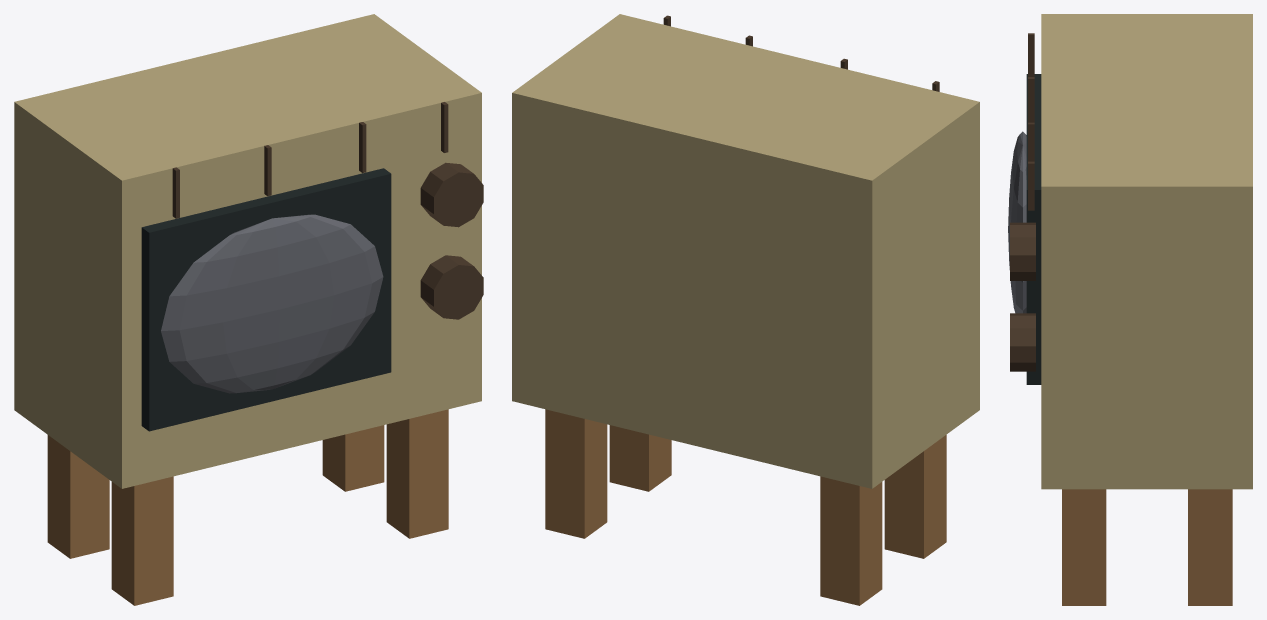
Rendered from good.glb.
3 views of the same model, side by side, from view 1: azimuth 30°, elevation 25°; view 2: azimuth 150°, elevation 25°; view 3: azimuth 270°, elevation 25° (orthographic).
Parts seen in each view (by area): view 1: Stone TV cabinet, Curved CRT, Leg, CRT bezel, Stone joint; view 2: Stone TV cabinet, Leg; view 3: Stone TV cabinet, Leg, Stone joint, CRT bezel, Curved CRT.
Part boxes in pixels (x1,y1,x2,y2): Stone TV cabinet: (14,14,481,488); Curved CRT: (161,214,383,393); Leg: (47,409,448,605); CRT bezel: (141,168,391,431); Stone joint: (172,102,483,319); Stone TV cabinet: (512,14,979,488); Leg: (545,409,946,605); Stone TV cabinet: (1041,14,1252,489); Leg: (1062,489,1232,605); Stone joint: (1010,33,1035,371); CRT bezel: (1026,74,1041,384); Curved CRT: (1008,131,1026,313).
Size of the model in its own units: 1 by 1.17 by 0.6.
